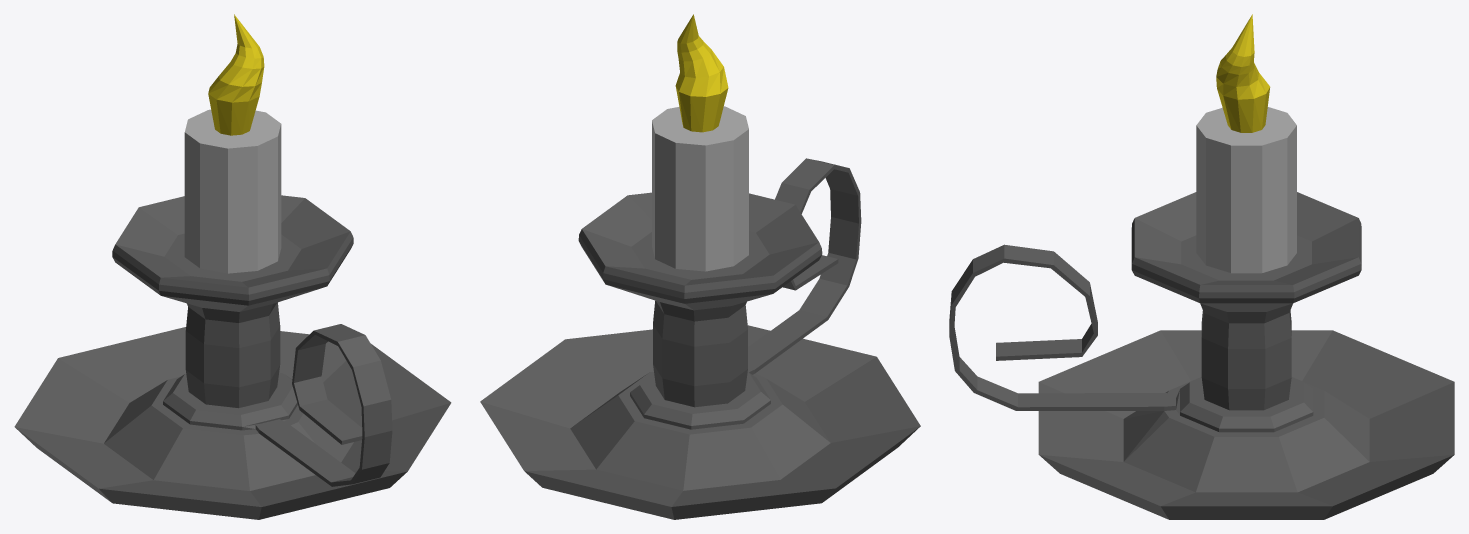
Rendered from Candle_Holder.glb.
3 renders of one model, left to right at view 1: azimuth 30°, elevation 25°; view 2: azimuth 150°, elevation 25°; view 3: azimuth 270°, elevation 25°, orthographic. The views are drawn at different scales.
Visible parts, largest first — view 1: world; view 2: world; view 3: world.
Boxes of the visible parts, x1,y1,x2,y2 form: world: (14,14,451,519); world: (480,14,920,519); world: (949,14,1454,519).
Bounding box in the file's own units: 57.88 × 66.47 × 70.32.
